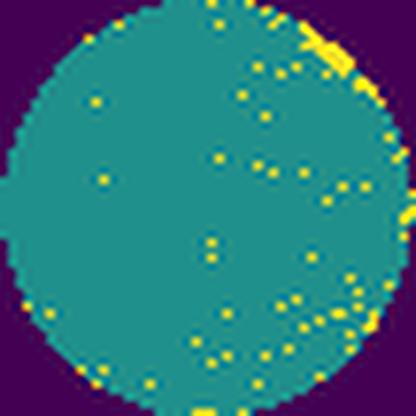Edge-Loc: (299, 19, 387, 112)
